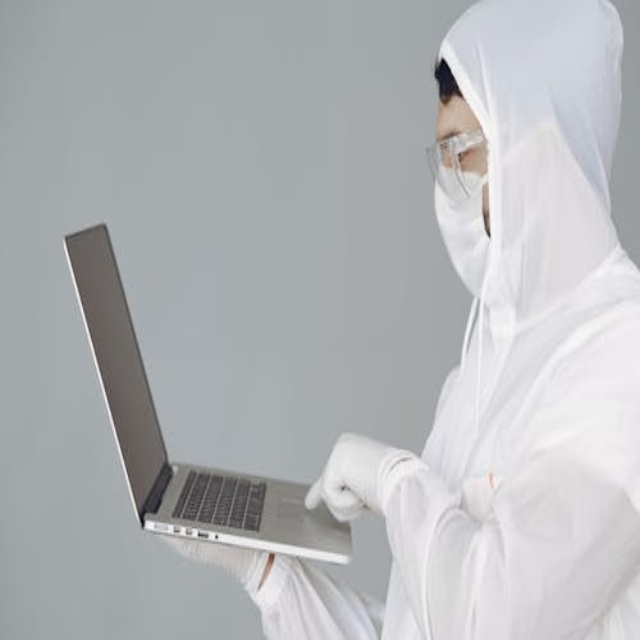Gafas: (427, 127, 487, 196)
Guantes: (306, 433, 411, 525), (159, 525, 271, 592)
Mascara: (432, 146, 495, 298)
